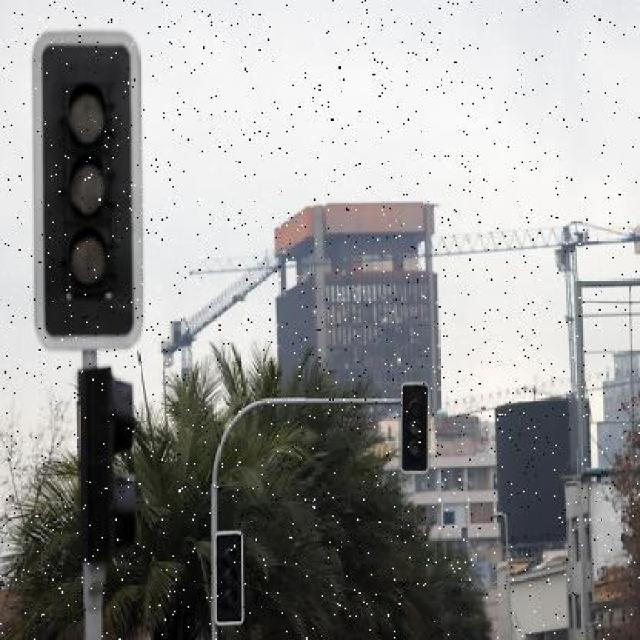traffic-light: (26, 27, 152, 343), (56, 372, 160, 562), (206, 520, 250, 630), (399, 379, 436, 478)
